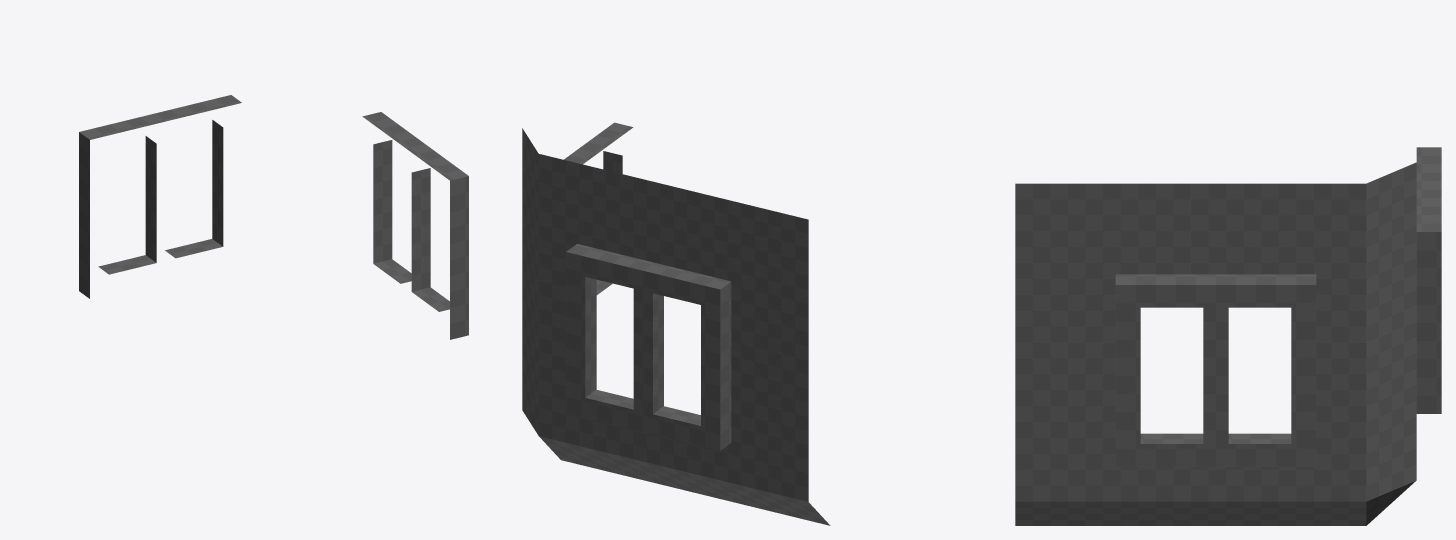
3 views of the same model, side by side, from view 1: azimuth 30°, elevation 25°; view 2: azimuth 150°, elevation 25°; view 3: azimuth 270°, elevation 25° (orthographic). The views are drawn at different scales.
Parts seen in each view (by area): view 1: CubeDownBackRightV2; view 2: CubeDownBackRightV2; view 3: CubeDownBackRightV2.
Boxes of the visible parts, x1,y1,x2,y2 form: CubeDownBackRightV2: [79, 95, 468, 339]; CubeDownBackRightV2: [522, 122, 830, 525]; CubeDownBackRightV2: [1015, 147, 1441, 525].
Size of the model in its own units: 2.12 by 2 by 2.12.
Materials: 1 (1 with a texture image).
